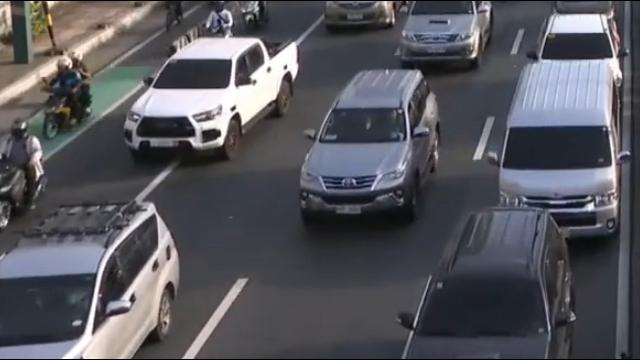car: (0, 198, 182, 360), (396, 210, 580, 360), (294, 68, 444, 223), (533, 2, 627, 98), (398, 0, 496, 67), (324, 2, 396, 31)
motorcycle: (0, 118, 51, 230), (44, 50, 92, 139), (204, 1, 234, 39), (236, 1, 270, 30), (65, 49, 91, 78), (164, 1, 184, 32)
pickup-truck: (121, 35, 303, 164)
van: (497, 61, 625, 239)
